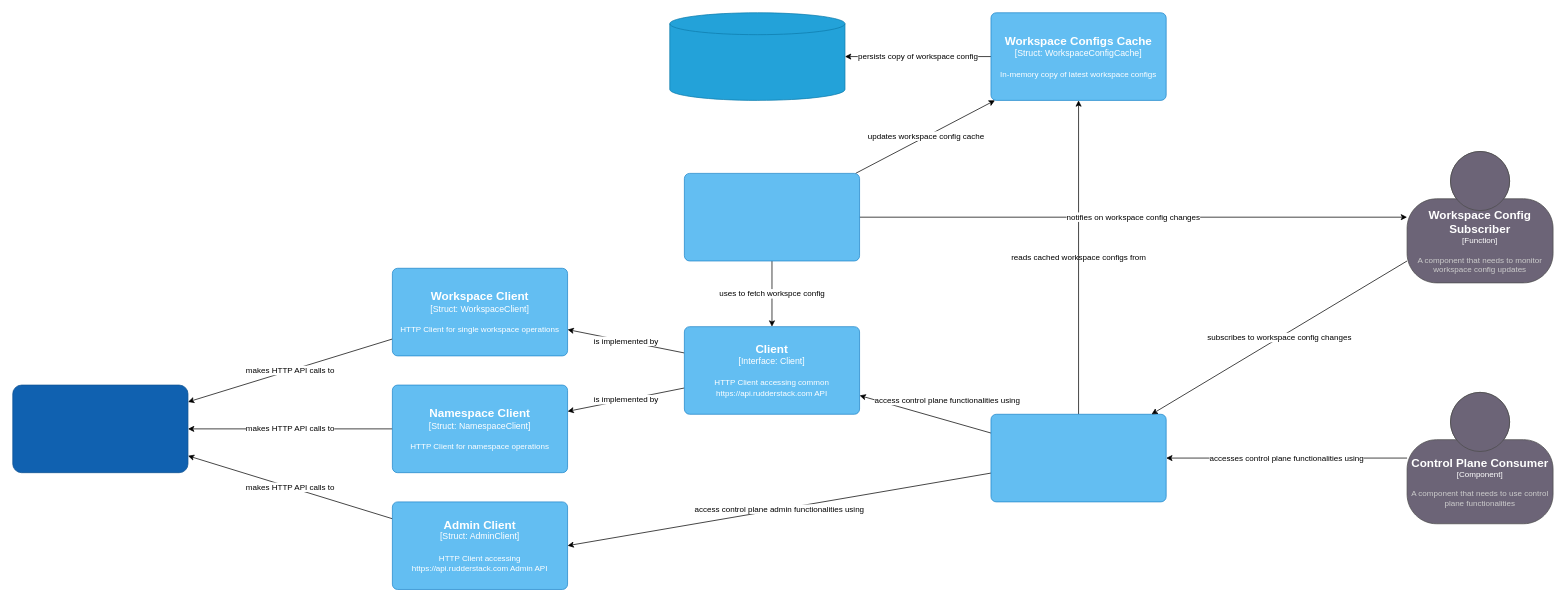
Some shapes in this 1566 by 602 pixel diagram are drawn without their labels. The box of each missing label's shape, as (x1, y1, x2, y2) in pixels:
Control Plane HTTP API [Software System] https://api.rudderstack.com: (12, 384, 188, 473)
Poller [Struct: Poller] Periodically polls workspace configs: (684, 173, 860, 261)
Postgres [Container: Postgres] Workspace config cache storage: (669, 12, 845, 100)
SDK [Struct: SDK] Entry point for Control Plane functionality: (990, 414, 1166, 502)
